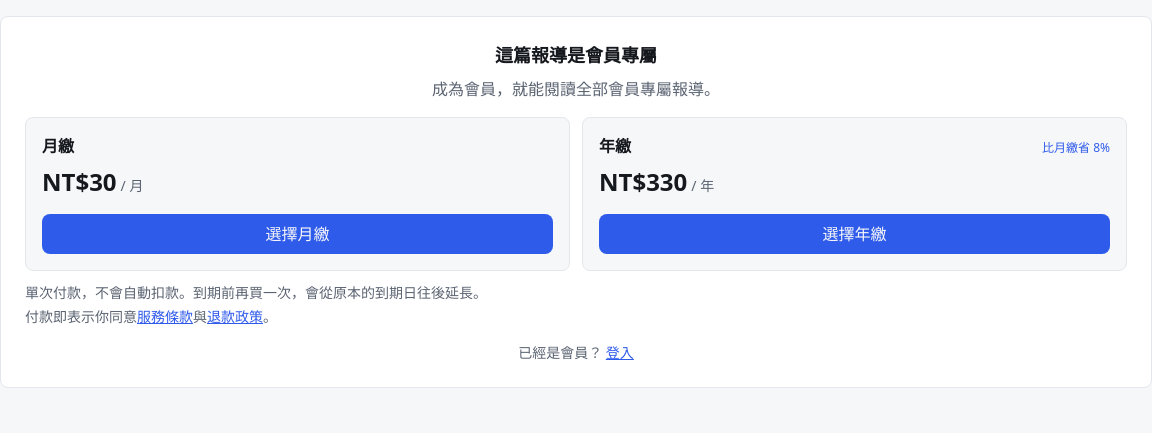
it: the paywall › says so when the site has no store yet, instead of a dead end
The width and height of the screenshot is (1152, 433).
Click the button "選擇年繳": {"x": 854, "y": 234} [599,214,1110,254]
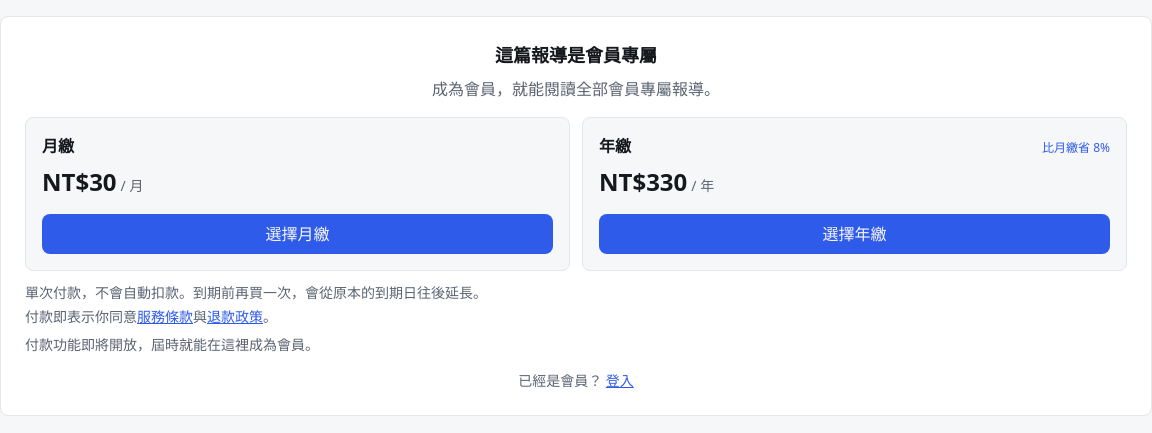
expect the message shows "即將開放": met, box [25,335,319,354]
